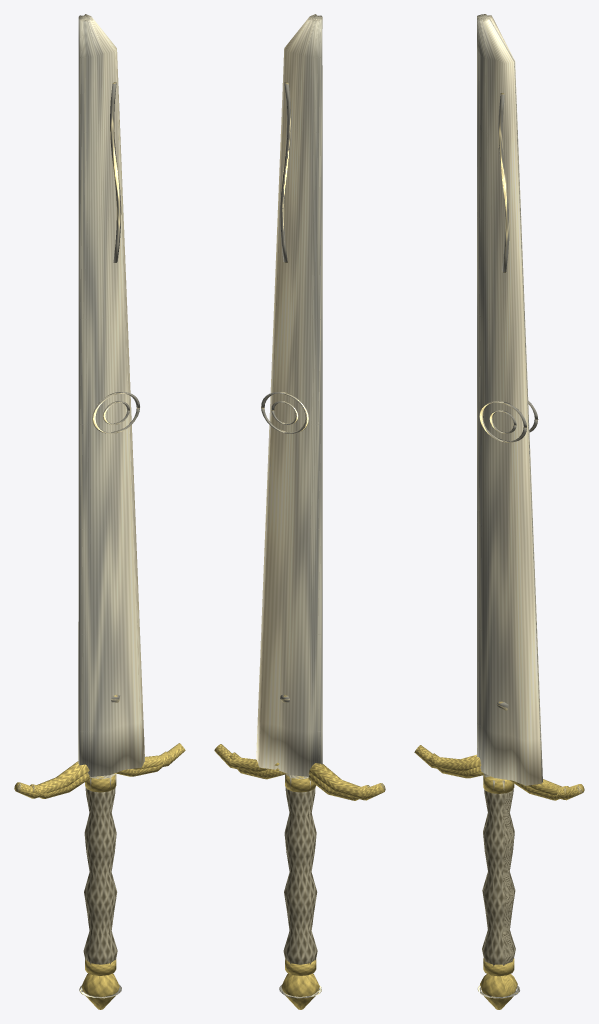
Rendered from sword_08_radiant_covenant.glb.
The picture shows the model from 3 angles, left to right: view 1: azimuth 30°, elevation 25°; view 2: azimuth 150°, elevation 25°; view 3: azimuth 330°, elevation 25°; orthographic projection.
Visible parts, largest first — view 1: Blade_RadiantCovenantGreatsword, Grip_CovenantSilkHilt, Guard_VeilWings, Pommel_ReliquaryOrb, Inlay_RadiantPulse, Ferrule_CovenantGold, Seal_SanctuarySeal; view 2: Blade_RadiantCovenantGreatsword, Grip_CovenantSilkHilt, Guard_VeilWings, Pommel_ReliquaryOrb, Inlay_RadiantPulse, Ferrule_CovenantGold, Seal_SanctuarySeal; view 3: Blade_RadiantCovenantGreatsword, Grip_CovenantSilkHilt, Guard_VeilWings, Pommel_ReliquaryOrb, Inlay_RadiantPulse, Ferrule_CovenantGold, Seal_SanctuarySeal.
Part boxes in pixels (x1,y1,x2,y2): Blade_RadiantCovenantGreatsword: [78, 14, 144, 776]; Grip_CovenantSilkHilt: [83, 774, 117, 964]; Guard_VeilWings: [14, 743, 185, 798]; Pommel_ReliquaryOrb: [79, 973, 121, 1009]; Inlay_RadiantPulse: [110, 82, 121, 262]; Ferrule_CovenantGold: [85, 773, 116, 975]; Seal_SanctuarySeal: [92, 392, 139, 433]; Blade_RadiantCovenantGreatsword: [256, 14, 322, 776]; Grip_CovenantSilkHilt: [283, 774, 317, 964]; Guard_VeilWings: [214, 744, 385, 800]; Pommel_ReliquaryOrb: [279, 973, 321, 1009]; Inlay_RadiantPulse: [280, 82, 291, 262]; Ferrule_CovenantGold: [285, 773, 316, 975]; Seal_SanctuarySeal: [261, 392, 308, 433]; Blade_RadiantCovenantGreatsword: [477, 14, 542, 785]; Grip_CovenantSilkHilt: [482, 773, 515, 965]; Guard_VeilWings: [414, 745, 584, 800]; Pommel_ReliquaryOrb: [477, 974, 519, 1009]; Inlay_RadiantPulse: [498, 93, 509, 272]; Ferrule_CovenantGold: [483, 774, 514, 976]; Seal_SanctuarySeal: [479, 401, 538, 442].
Size of the model in its own units: 0.4631 by 2.6 by 0.1028.
1 material, 1 textured.
